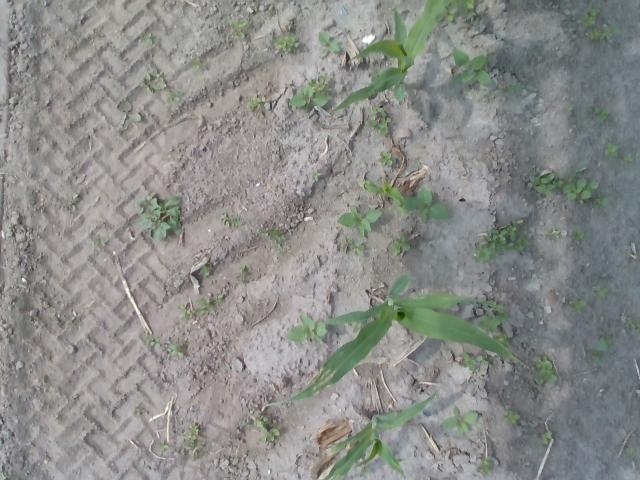Maize: (262, 276, 532, 408), (329, 0, 452, 120), (321, 390, 442, 480)
Weeds: (134, 194, 184, 244), (474, 220, 530, 264), (360, 179, 407, 217), (402, 187, 451, 223), (288, 74, 330, 113), (450, 47, 491, 85), (336, 204, 382, 237), (286, 314, 326, 345), (244, 413, 280, 443), (442, 406, 478, 436), (563, 174, 598, 200), (435, 0, 476, 22), (530, 169, 563, 196), (363, 106, 392, 135), (534, 355, 558, 385), (138, 69, 166, 94), (116, 100, 142, 126), (478, 310, 508, 332), (274, 31, 302, 52), (316, 31, 341, 53), (182, 426, 204, 450), (586, 28, 622, 42), (591, 338, 612, 360), (388, 235, 411, 255), (229, 18, 249, 40), (342, 237, 364, 257), (260, 228, 286, 244), (582, 4, 600, 27), (194, 297, 215, 316), (246, 92, 266, 110), (476, 456, 494, 476), (588, 106, 610, 122), (491, 332, 512, 348), (461, 352, 477, 372), (378, 150, 397, 166), (87, 236, 108, 250), (502, 409, 520, 425), (603, 141, 618, 160), (168, 343, 185, 358), (167, 89, 185, 103), (569, 298, 587, 312), (352, 318, 370, 332), (189, 58, 207, 71), (625, 317, 640, 332), (178, 304, 192, 320), (592, 286, 607, 300), (505, 83, 521, 95), (488, 301, 504, 313), (138, 31, 152, 44), (593, 198, 609, 209), (541, 431, 553, 444), (572, 230, 586, 241), (550, 226, 560, 240), (620, 152, 634, 162), (220, 214, 230, 228), (146, 337, 160, 347), (476, 354, 488, 365), (310, 170, 322, 180), (232, 216, 242, 228), (198, 266, 210, 276), (156, 444, 170, 452), (236, 266, 246, 275), (214, 294, 224, 302), (626, 446, 635, 454), (564, 106, 573, 112)
